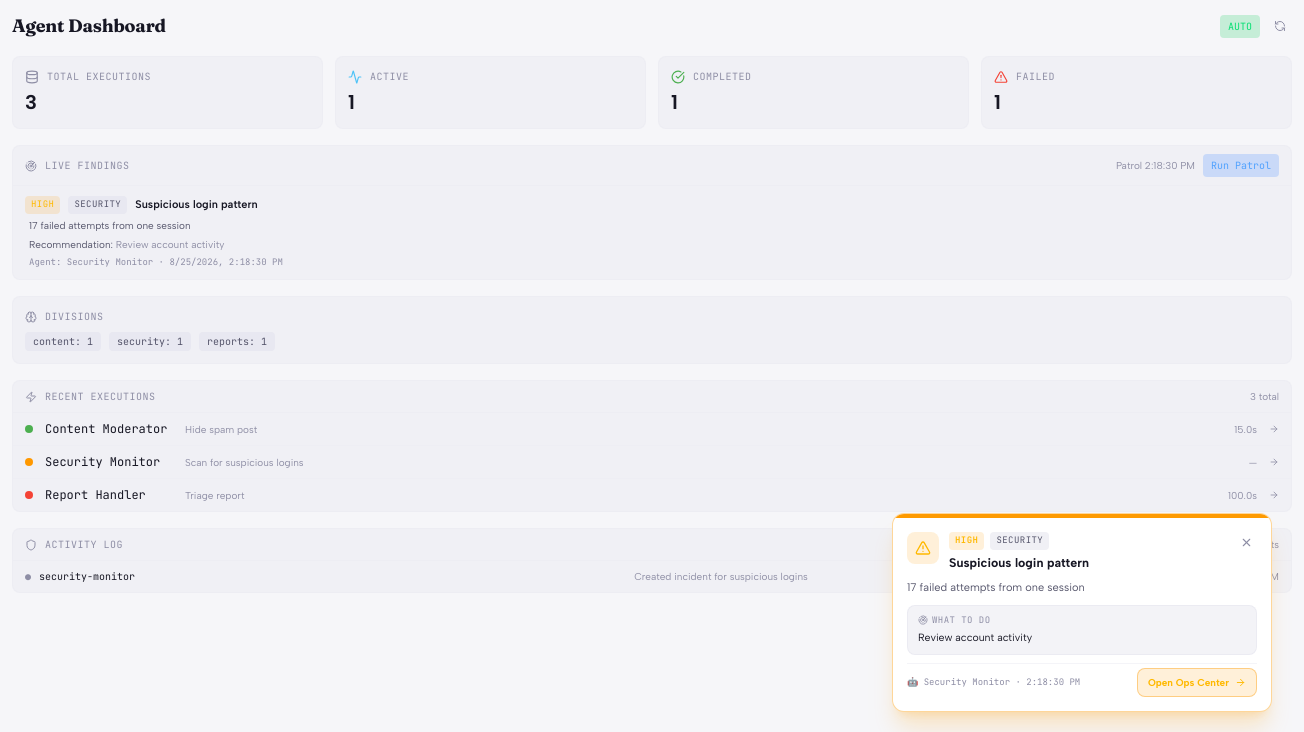
Test: AgentDashboard › shows the error text for failed executions
Click the text "Triage report": (215, 495) [185,488,244,502]
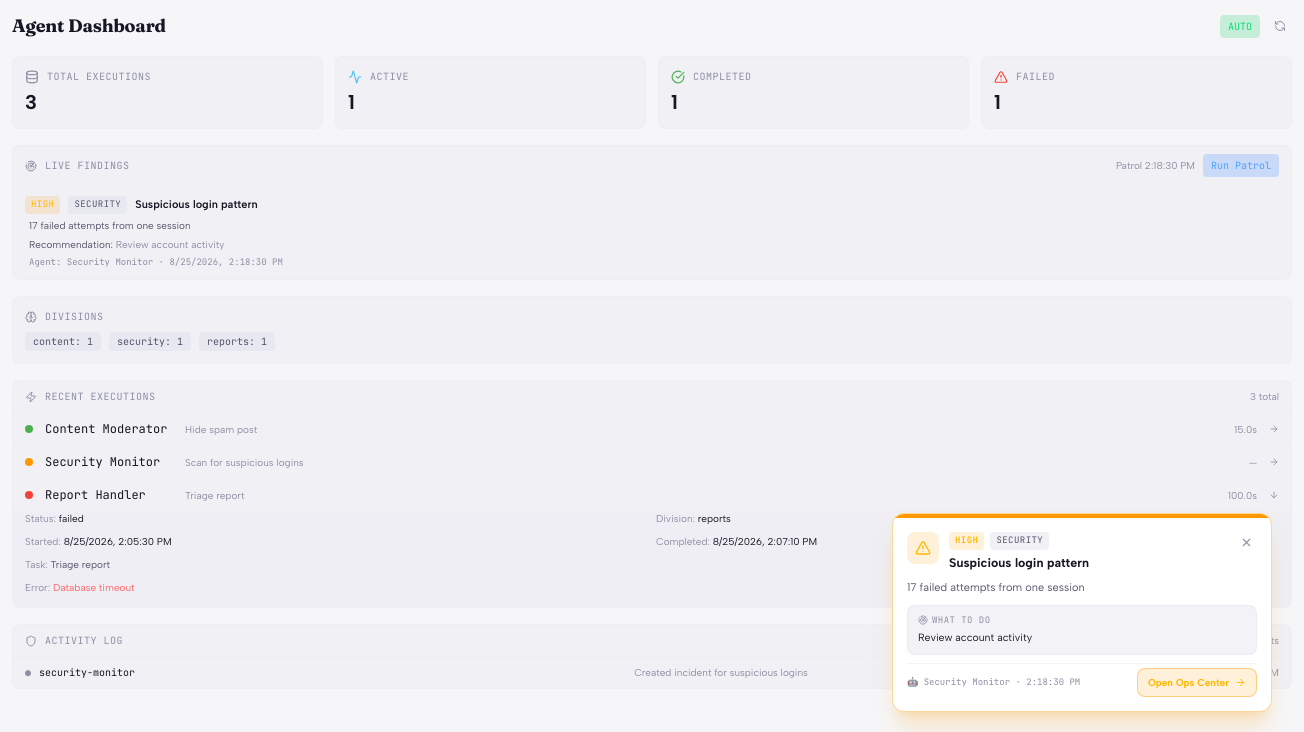
Result: the text "Error:" is shown at [25,581,50,594]
Result: the text "Database timeout" is shown at [53,581,135,594]
